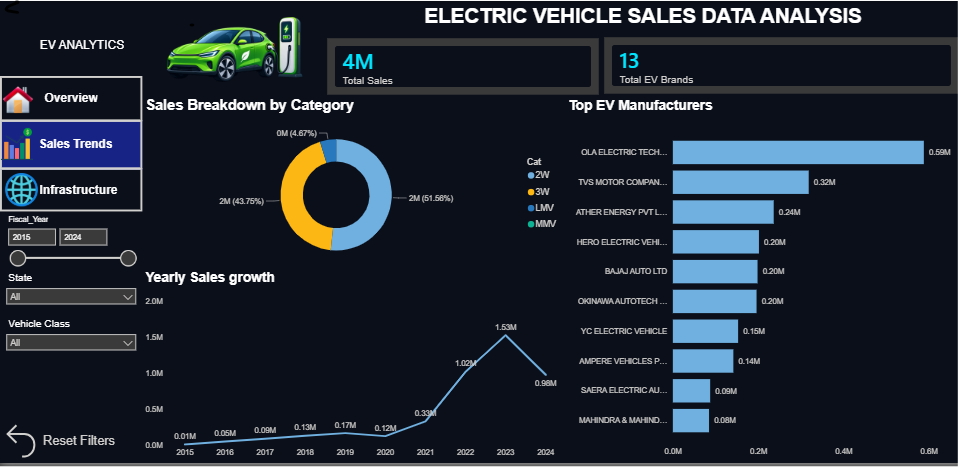

What the dashboard file says about the page in this screenshot:
{"tool":"powerbi","page":{"name":"Sales Trends","canvas":[1500,720],"ordinal":1},"visuals":[{"type":"cardVisual","fields":{"Data":["Count(cleaned_EV_Maker_by_Place.EV Maker)"]},"box":[936.7,51.7,562.9,98.6],"z":0},{"type":"lineChart","title":"Yearly Sales growth","fields":{"Category":["cleaned_ev_sales_by_makers_and_cat_15-24.Fiscal_Year"],"Y":["Sum(cleaned_ev_sales_by_makers_and_cat_15-24.Sales_Quantity)"]},"box":[221.2,419,658.9,300.6],"z":1000},{"type":"clusteredBarChart","title":"Top EV Manufacturers","fields":{"Category":["cleaned_ev_sales_by_makers_and_cat_15-24.Maker"],"Y":["cleaned_EV_Maker_by_Place.Total Sales"]},"box":[880.1,151.1,619.9,567],"z":2000},{"type":"slicer","fields":{"Values":["cleaned_Vehicle_Class_All.Vehicle Class"]},"box":[0,488.3,221.7,78.3],"z":3000},{"type":"textbox","box":[504.7,0,995.3,53],"z":4000},{"type":"slicer","fields":{"Values":["cleaned_ev_sales_by_makers_and_cat_15-24.Fiscal_Year"]},"box":[0,328.7,221.7,90],"z":5000},{"type":"slicer","fields":{"Values":["cleaned_OperationalPC.State"]},"box":[0,417.6,221.7,70],"z":6000},{"type":"actionButton","box":[0,116.6,221.8,70.6],"z":7000},{"type":"actionButton","box":[0,260.6,221.8,67.7],"z":8000},{"type":"image","box":[0,130,56.3,51.7],"z":9000},{"type":"actionButton","box":[0,185,221.7,76.7],"z":10000},{"type":"image","box":[0,190,53.3,65],"z":11000},{"type":"textbox","box":[0,53.3,221.7,63.3],"z":13000},{"type":"image","box":[0,268.3,66.7,51.7],"z":14000},{"type":"actionButton","box":[0,652.6,221.2,65.4],"z":15000},{"type":"donutChart","title":"Sales Breakdown by Category","fields":{"Category":["cleaned_ev_sales_by_makers_and_cat_15-24.Cat"],"Y":["Sum(cleaned_ev_sales_by_makers_and_cat_15-24.Sales_Quantity)"]},"box":[221.2,149.5,658.9,267.9],"z":16000},{"type":"cardVisual","fields":{"Data":["cleaned_EV_Maker_by_Place.Total Sales"]},"box":[504.3,52.9,433.3,98.3],"z":17000},{"type":"image","box":[221.2,0,283.5,151.1],"z":18000}]}

Visuals, with their boxes in screenshot pixels (x1, y1, x2, y2), scaled from the page's 1500x720 canvas onto the 958x467 screenshot:
cardVisual - Count(cleaned_EV_Maker_by_Place.EV Maker): [left=598, top=34, right=957, bottom=97]
"Yearly Sales growth" lineChart: [left=141, top=272, right=562, bottom=466]
"Top EV Manufacturers" clusteredBarChart: [left=562, top=98, right=957, bottom=466]
slicer - cleaned_Vehicle_Class_All.Vehicle Class: [left=0, top=317, right=142, bottom=368]
textbox: [left=322, top=0, right=957, bottom=34]
slicer - cleaned_ev_sales_by_makers_and_cat_15-24.Fiscal_Year: [left=0, top=213, right=142, bottom=272]
slicer - cleaned_OperationalPC.State: [left=0, top=271, right=142, bottom=316]
actionButton: [left=0, top=76, right=142, bottom=121]
actionButton: [left=0, top=169, right=142, bottom=213]
image: [left=0, top=84, right=36, bottom=118]
actionButton: [left=0, top=120, right=142, bottom=170]
image: [left=0, top=123, right=34, bottom=165]
textbox: [left=0, top=35, right=142, bottom=76]
image: [left=0, top=174, right=43, bottom=208]
actionButton: [left=0, top=423, right=141, bottom=466]
"Sales Breakdown by Category" donutChart: [left=141, top=97, right=562, bottom=271]
cardVisual - cleaned_EV_Maker_by_Place.Total Sales: [left=322, top=34, right=599, bottom=98]
image: [left=141, top=0, right=322, bottom=98]
